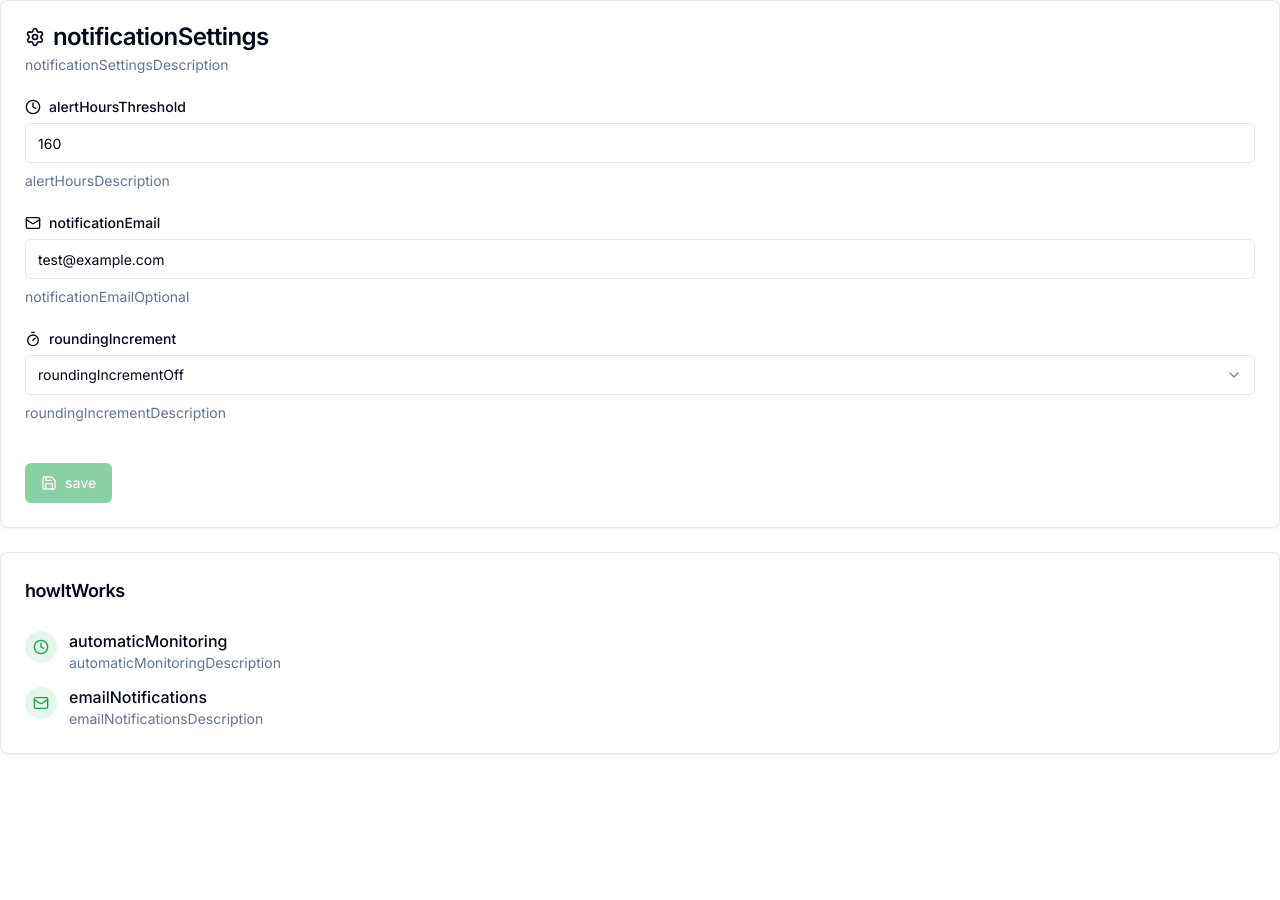
SettingsForm › should show unsaved changes message when form is dirty
Type "180" into the number field labelled "alertHoursThreshold". click: (640, 143)
box: [25,123,1255,163]
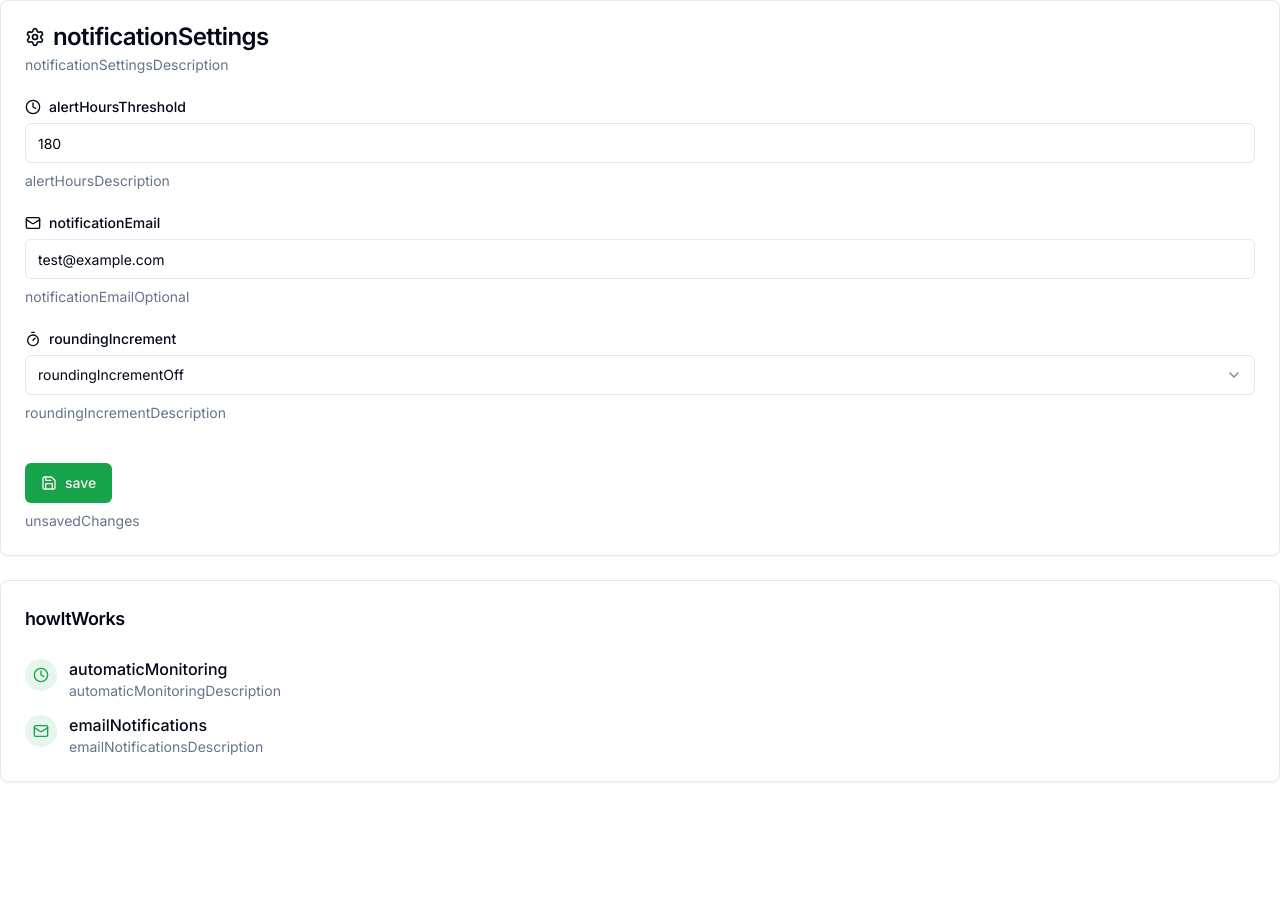
Expected: the text "unsavedChanges" is shown, [25,512,140,529]
